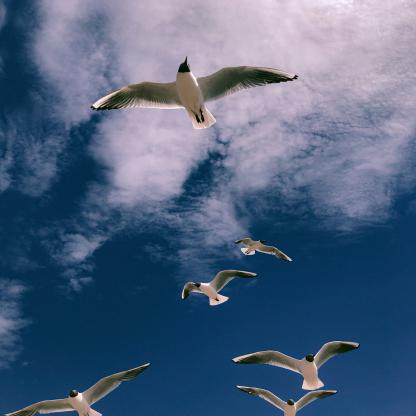bird: (92, 57, 300, 129), (3, 362, 154, 415), (234, 340, 359, 390), (235, 385, 339, 415), (182, 269, 259, 305), (234, 238, 292, 262)
